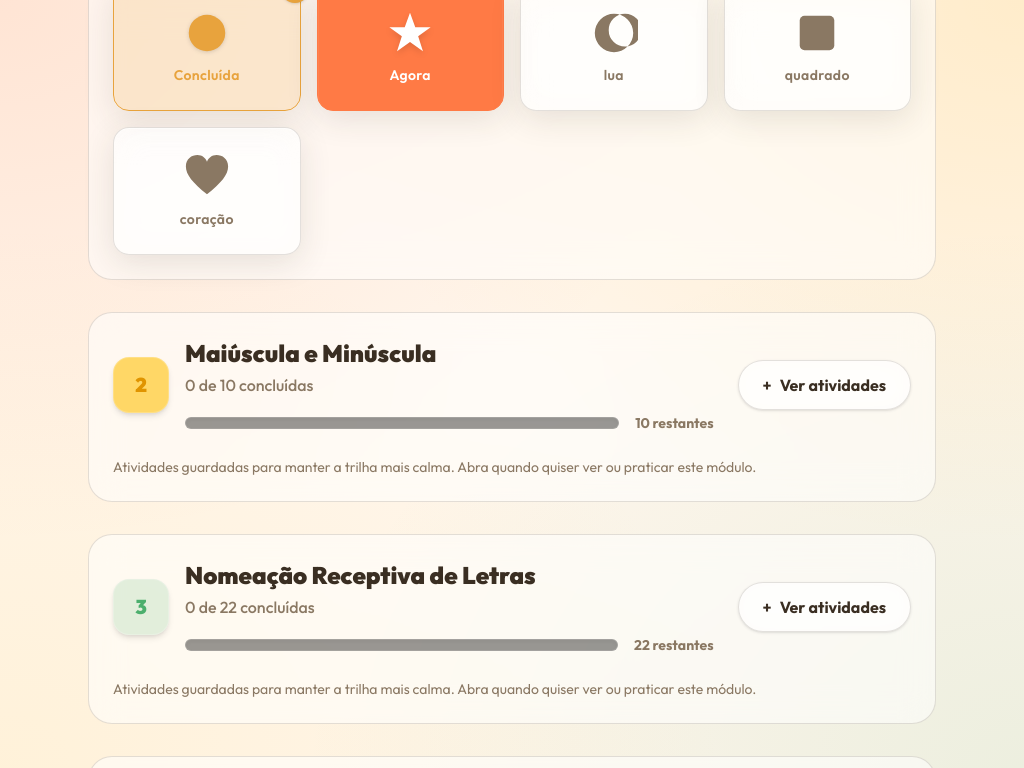
Test: Trilha › deixa todos os módulos acessíveis, sem cadeado nem texto de bloqueio
The image size is (1024, 768).
(page scrolled)
Click the button "+ Ver atividades" in the row of "Maiúscula e Minúscula".
click(824, 384)  # box 738,360 -> 911,410
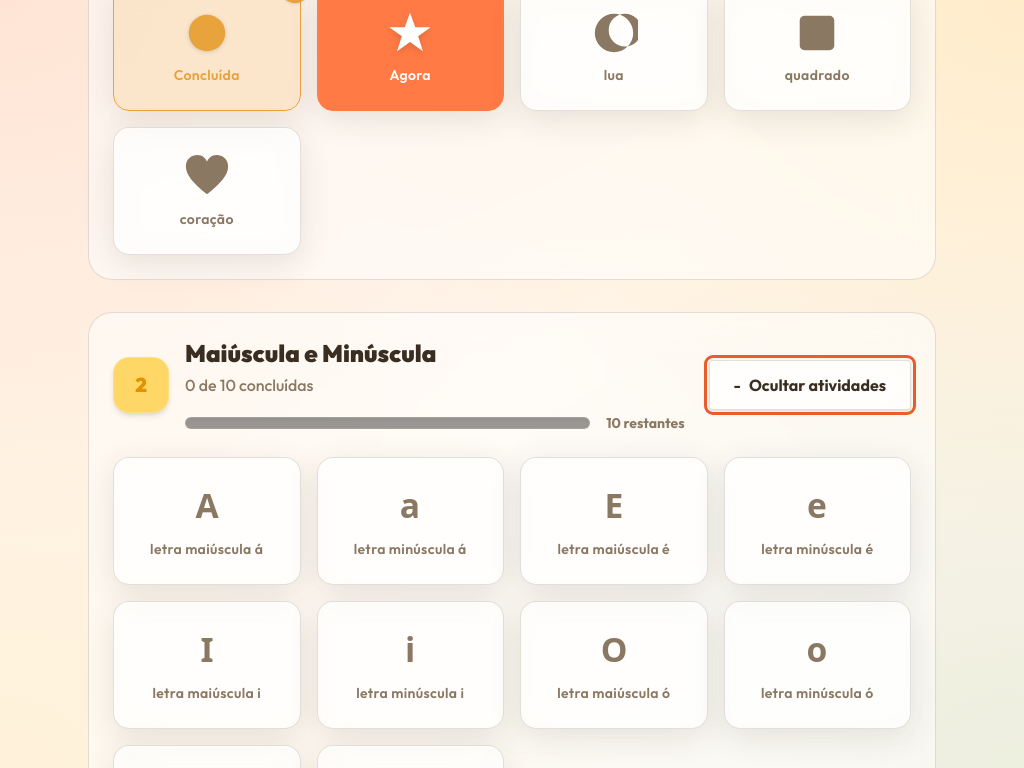
Expected: the button named "Ver atividades" is expanded, 709,360 -> 911,410
